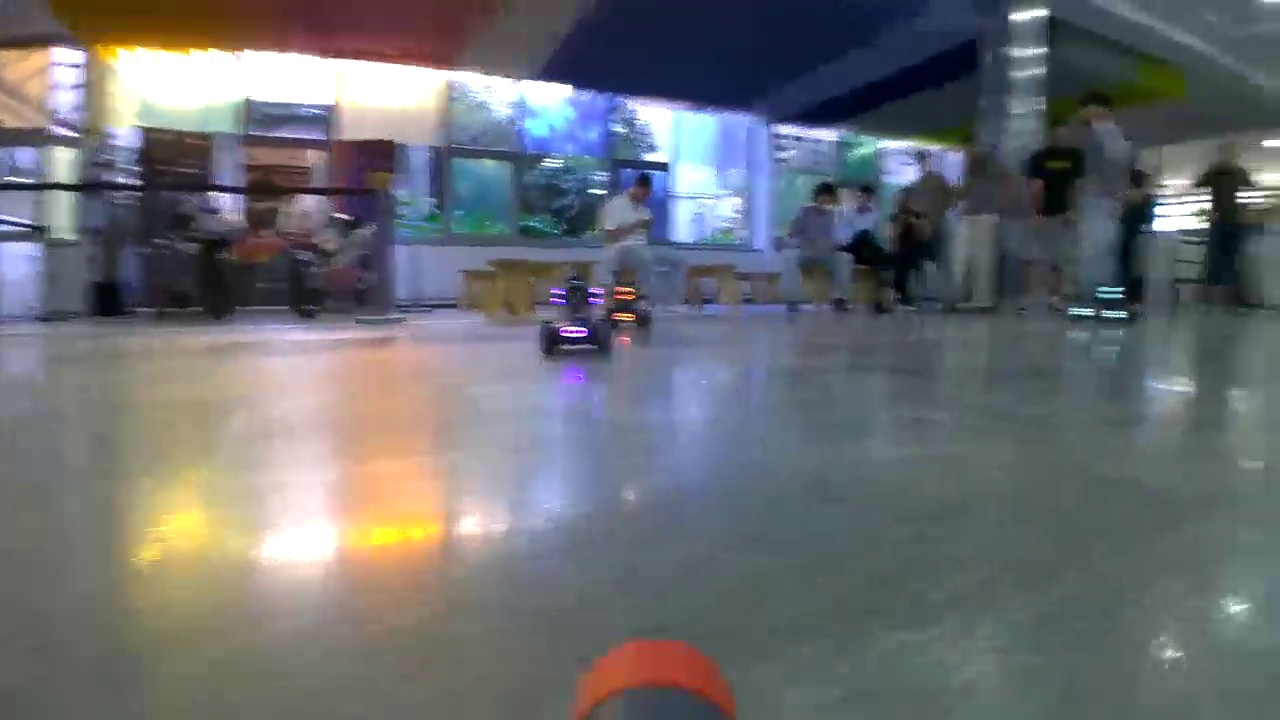robot: (540, 287, 612, 360), (1065, 285, 1140, 330), (605, 282, 650, 328)
